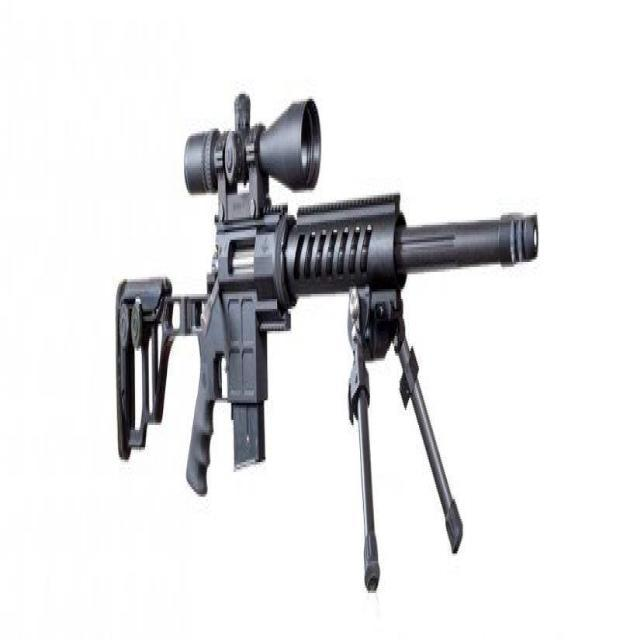weapon: (113, 84, 540, 600)
